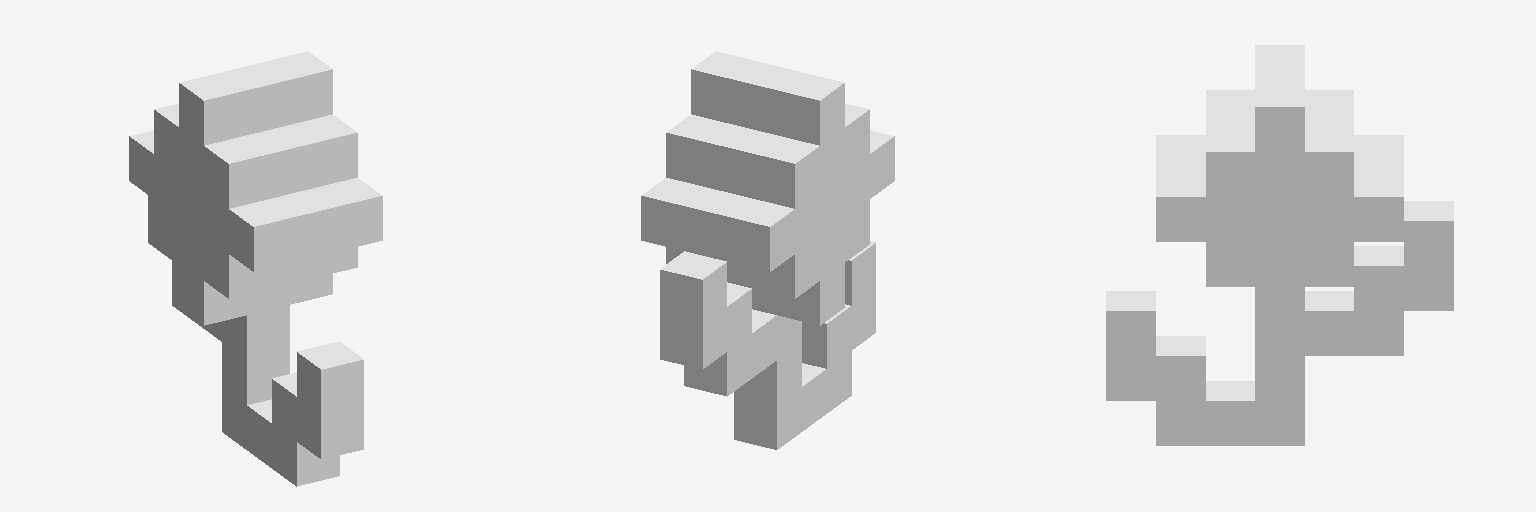
Rendered from floweringredient.obj.
3 renders of one model, left to right at view 1: azimuth 30°, elevation 25°; view 2: azimuth 150°, elevation 25°; view 3: azimuth 270°, elevation 25°, orthographic.
Visible parts, largest first — view 1: object 1; view 2: object 1; view 3: object 1.
Part boxes in pixels (x1,y1,x2,y2): object 1: (129,51,382,486); object 1: (641,51,894,449); object 1: (1106,45,1453,445).
Size of the model in its own units: 0.3 by 0.8 by 0.7.